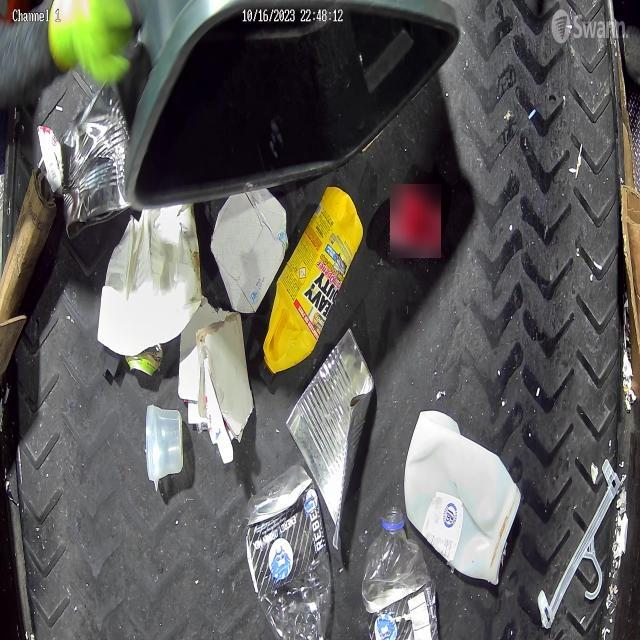milk_jug: (404, 412, 522, 585)
non_white_jug: (256, 182, 361, 381)
plastic_bottle: (245, 462, 332, 640), (362, 506, 438, 640)
